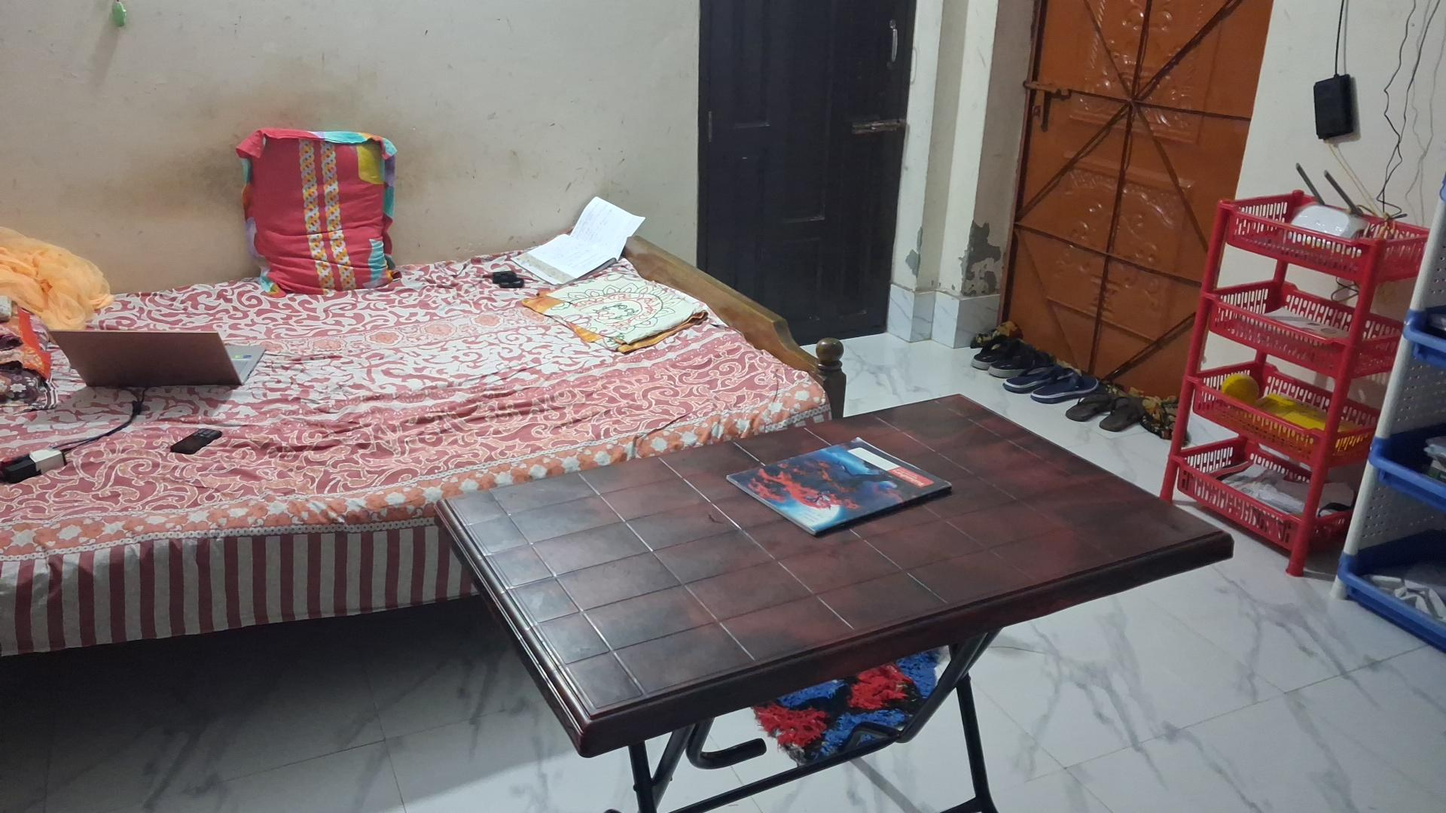Door: (995, 6, 1267, 447), (692, 1, 926, 342)
Footwear: (967, 338, 1055, 377), (1008, 364, 1096, 402), (1064, 391, 1146, 430)
Laptop: (46, 325, 244, 389)
Notebook: (516, 198, 650, 289)
Phone: (166, 425, 225, 454)
Pillow: (226, 110, 413, 302)
Rack: (1166, 157, 1430, 597)
Table: (425, 390, 1241, 806), (725, 435, 953, 537)
